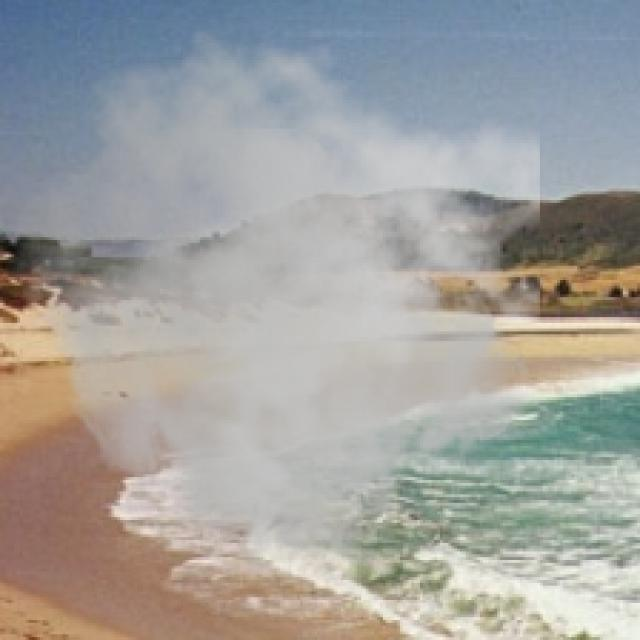smoke: (11, 26, 540, 577)
